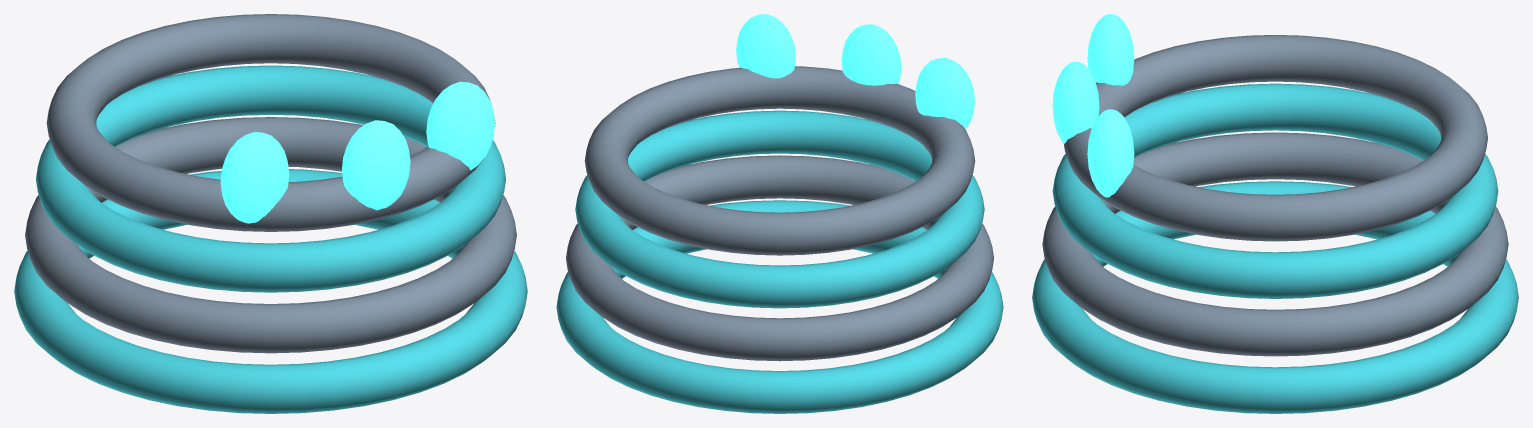
File: bracelet_v8.glb
3 views of the same model, side by side, from view 1: azimuth 30°, elevation 25°; view 2: azimuth 150°, elevation 25°; view 3: azimuth 270°, elevation 25° (orthographic). The views are drawn at different scales.
Visible parts, largest first — view 1: COIL_CUFF_ACCENT.001, COIL_CUFF_PRIMARY.001, COIL_CUFF_PRIMARY, COIL_CUFF_ACCENT, COIL_STONE_EMISSIVE, COIL_STONE_EMISSIVE.001, COIL_STONE_EMISSIVE.002; view 2: COIL_CUFF_PRIMARY.001, COIL_CUFF_ACCENT.001, COIL_CUFF_PRIMARY, COIL_CUFF_ACCENT, COIL_STONE_EMISSIVE, COIL_STONE_EMISSIVE.002, COIL_STONE_EMISSIVE.001; view 3: COIL_CUFF_ACCENT.001, COIL_CUFF_PRIMARY.001, COIL_CUFF_PRIMARY, COIL_CUFF_ACCENT, COIL_STONE_EMISSIVE.002, COIL_STONE_EMISSIVE.001, COIL_STONE_EMISSIVE.
Boxes of the visible parts, <box> form: COIL_CUFF_ACCENT.001: <box>36,65,505,292</box>; COIL_CUFF_PRIMARY.001: <box>46,14,495,231</box>; COIL_CUFF_PRIMARY: <box>25,117,516,353</box>; COIL_CUFF_ACCENT: <box>14,169,527,413</box>; COIL_STONE_EMISSIVE: <box>220,132,289,223</box>; COIL_STONE_EMISSIVE.001: <box>342,120,410,210</box>; COIL_STONE_EMISSIVE.002: <box>426,81,494,170</box>; COIL_CUFF_PRIMARY.001: <box>584,66,975,255</box>; COIL_CUFF_ACCENT.001: <box>575,110,984,308</box>; COIL_CUFF_PRIMARY: <box>566,155,993,361</box>; COIL_CUFF_ACCENT: <box>556,200,1003,413</box>; COIL_STONE_EMISSIVE: <box>915,57,974,128</box>; COIL_STONE_EMISSIVE.002: <box>736,14,795,78</box>; COIL_STONE_EMISSIVE.001: <box>841,24,901,85</box>; COIL_CUFF_ACCENT.001: <box>1052,83,1498,298</box>; COIL_CUFF_PRIMARY.001: <box>1064,35,1487,241</box>; COIL_CUFF_PRIMARY: <box>1042,132,1508,356</box>; COIL_CUFF_ACCENT: <box>1032,181,1518,413</box>; COIL_STONE_EMISSIVE.002: <box>1087,109,1134,197</box>; COIL_STONE_EMISSIVE.001: <box>1052,61,1099,143</box>; COIL_STONE_EMISSIVE: <box>1087,14,1134,85</box>.
Bounding box in the file's own units: 1.66 × 0.96 × 1.66.
